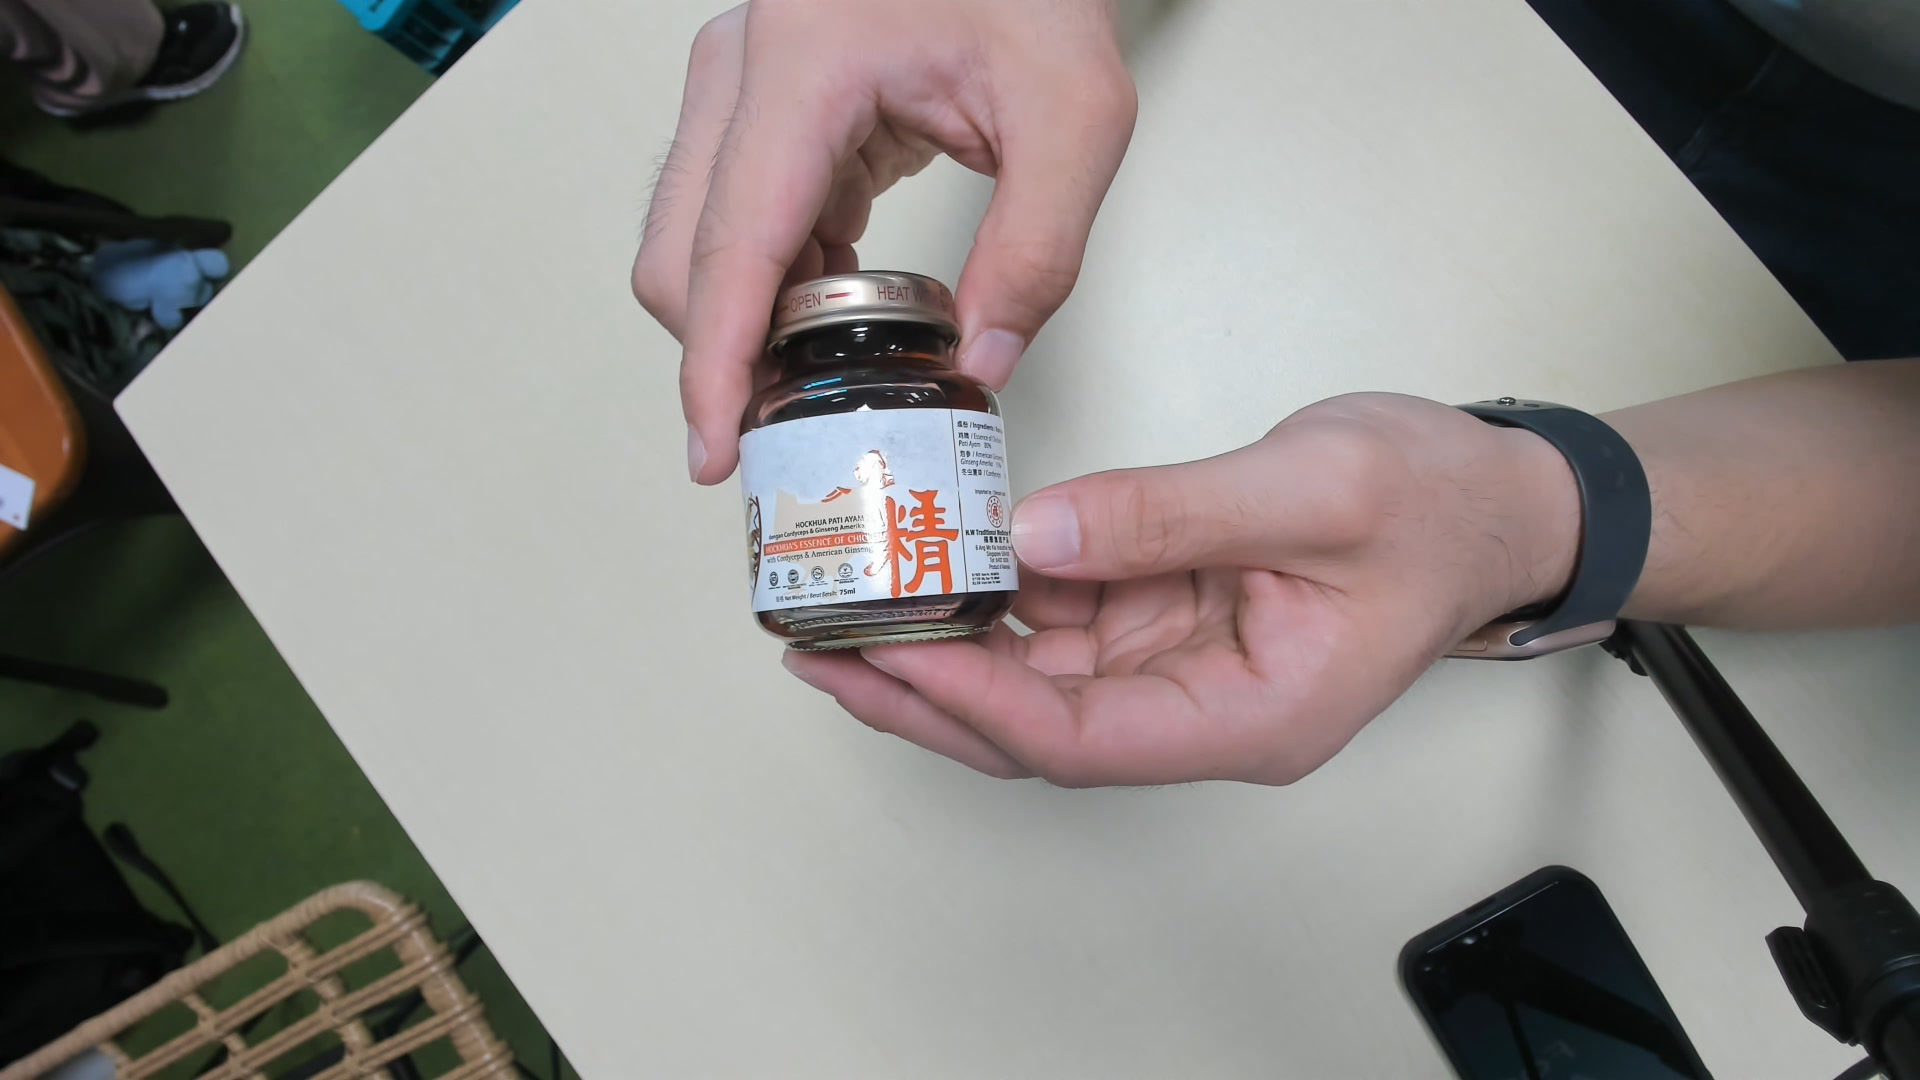OtherSauceDressing_0-99g_NonHalal_NonHealthy: (729, 272, 1025, 646)
